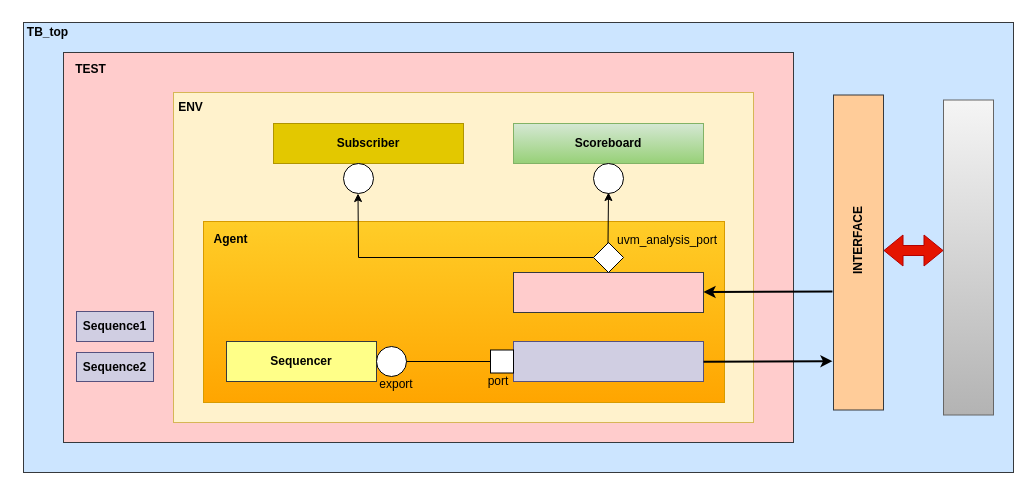
This 1031x490 diagram has some shape labels left out. Each missing label, with the centre of its shape:
"Driver" belongs at (x=608, y=361).
"DUT" belongs at (x=968, y=257).
"Monitor" belongs at (x=608, y=292).
